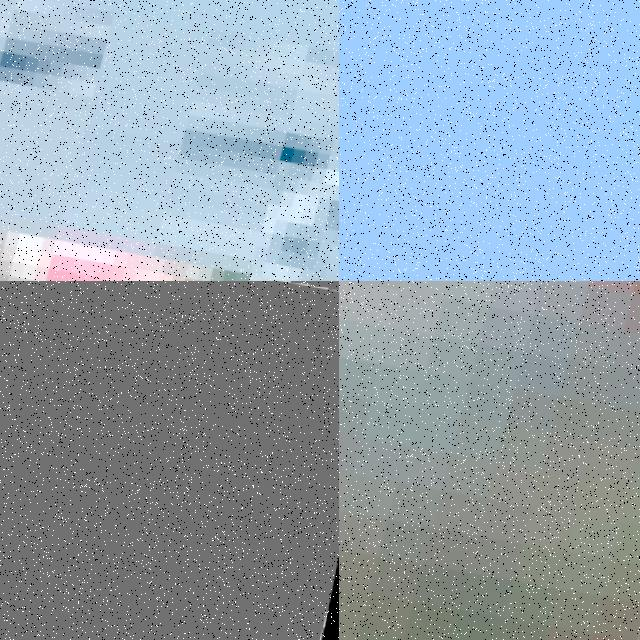0: (0, 0, 339, 281)
drone: (0, 281, 339, 640), (339, 281, 640, 640)
